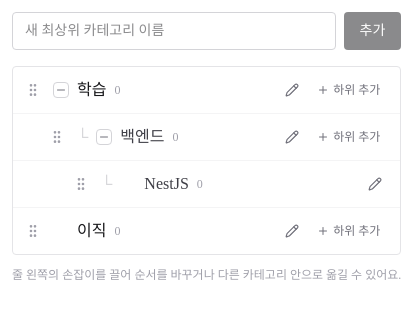
Test: CategoryManager: 이름 수정 › 오류 문구가 떠 있다가 다시 입력하면 문구가 사라진다
Click the button named "이직 이름 수정". click: (292, 231)
box: [279,218,305,244]
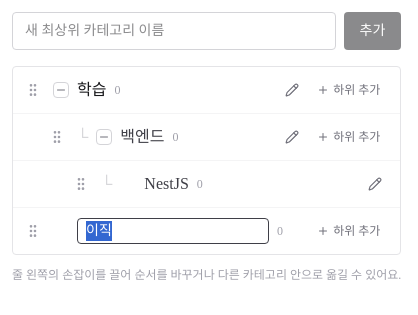
Replace the text in the field named "이직 새 이름" with "학습". click: (173, 231)
box: [77,218,269,244]
Then press Enter
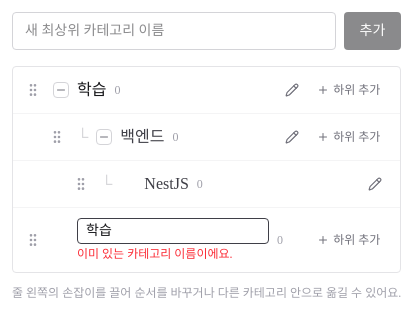
expect the message "이미 있는 카테고리 이름이에요." is shown: met, box [77,247,232,261]
Type "2" into the field named "이직 새 이름". click: (173, 231)
box: [77,218,269,244]
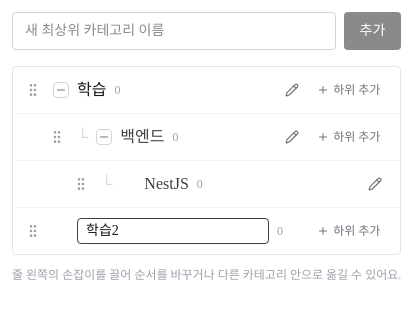
expect the message "이미 있는 카테고리 이름이에요." is gone: met
